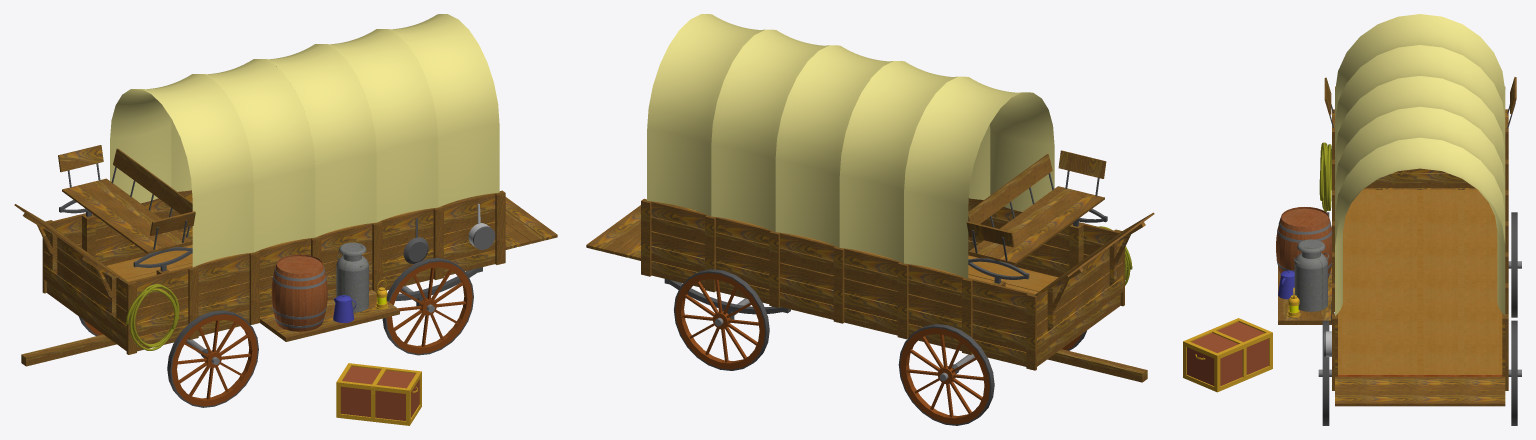
Rendered from wagon_10.obj.
3 renders of one model, left to right at view 1: azimuth 30°, elevation 25°; view 2: azimuth 150°, elevation 25°; view 3: azimuth 270°, elevation 25°, orthographic. The views are drawn at different scales.
Parts seen in each view (by area): view 1: Mesh20 Group22 Group8 Group1 Model, Mesh57 Component_4_2 Group8 Group1 Model, Mesh23 Group25 Group8 Group1 Model, Mesh31 Group32 Group8 Group1 Model, Mesh13 Group15 Group8 Group1 Model, Mesh26 Group27 Group8 Group1 Model, Mesh50 wheel4 Group8 Group1 Model, Mesh34 wheel1 Group8 Group1 Model, Mesh5 Group7 Group1 Model, Mesh49 Component_5_1 Group8 Group1 Model, Mesh9 Group11 Group8 Group1 Model, Mesh75 Group47 Group44 Model (+25 smaller); view 2: Mesh37 Component_4_1 Group8 Group1 Model, Mesh20 Group22 Group8 Group1 Model, Mesh23 Group25 Group8 Group1 Model, Mesh13 Group15 Group8 Group1 Model, Mesh31 Group32 Group8 Group1 Model, Mesh26 Group27 Group8 Group1 Model, Mesh9 Group11 Group8 Group1 Model, Mesh36 wheel3 Group8 Group1 Model, Mesh35 wheel2 Group8 Group1 Model, Mesh49 Component_5_1 Group8 Group1 Model, Mesh57 Component_4_2 Group8 Group1 Model, Mesh18 Group20 Group8 Group1 Model (+18 smaller); view 3: Mesh9 Group11 Group8 Group1 Model, Mesh26 Group27 Group8 Group1 Model, Mesh20 Group22 Group8 Group1 Model, Mesh23 Group25 Group8 Group1 Model, Mesh13 Group15 Group8 Group1 Model, Mesh31 Group32 Group8 Group1 Model, Mesh52 Component_5_2 Group8 Group1 Model, Mesh75 Group47 Group44 Model, Mesh5 Group7 Group1 Model, Mesh3 Group5 Group2 Group1 Model, Mesh76 Group48 Group44 Model, Mesh49 Component_5_1 Group8 Group1 Model (+6 smaller).
Boxes of the visible parts, box(x1,y1,x2,y2) form: Mesh20 Group22 Group8 Group1 Model: box(110, 74, 253, 267); Mesh57 Component_4_2 Group8 Group1 Model: box(128, 190, 503, 336); Mesh23 Group25 Group8 Group1 Model: box(171, 59, 315, 252); Mesh31 Group32 Group8 Group1 Model: box(325, 29, 438, 222); Mesh13 Group15 Group8 Group1 Model: box(264, 44, 376, 237); Mesh26 Group27 Group8 Group1 Model: box(387, 14, 499, 207); Mesh50 wheel4 Group8 Group1 Model: box(167, 310, 258, 407); Mesh34 wheel1 Group8 Group1 Model: box(382, 258, 473, 355); Mesh5 Group7 Group1 Model: box(271, 254, 327, 331); Mesh49 Component_5_1 Group8 Group1 Model: box(44, 229, 126, 339); Mesh9 Group11 Group8 Group1 Model: box(106, 209, 495, 351); Mesh75 Group47 Group44 Model: box(336, 374, 421, 425); Mesh37 Component_4_1 Group8 Group1 Model: box(643, 198, 1035, 351); Mesh20 Group22 Group8 Group1 Model: box(904, 76, 1054, 278); Mesh23 Group25 Group8 Group1 Model: box(839, 61, 990, 263); Mesh13 Group15 Group8 Group1 Model: box(775, 45, 893, 247); Mesh31 Group32 Group8 Group1 Model: box(711, 29, 829, 231); Mesh26 Group27 Group8 Group1 Model: box(647, 14, 764, 216); Mesh9 Group11 Group8 Group1 Model: box(651, 218, 1058, 366); Mesh36 wheel3 Group8 Group1 Model: box(898, 324, 994, 425); Mesh35 wheel2 Group8 Group1 Model: box(674, 269, 769, 370); Mesh49 Component_5_1 Group8 Group1 Model: box(1037, 239, 1123, 354); Mesh57 Component_4_2 Group8 Group1 Model: box(968, 198, 1120, 277); Mesh18 Group20 Group8 Group1 Model: box(1034, 212, 1154, 331); Mesh9 Group11 Group8 Group1 Model: box(1338, 189, 1502, 374); Mesh26 Group27 Group8 Group1 Model: box(1335, 137, 1505, 315); Mesh20 Group22 Group8 Group1 Model: box(1335, 14, 1505, 121); Mesh23 Group25 Group8 Group1 Model: box(1335, 45, 1505, 152); Mesh13 Group15 Group8 Group1 Model: box(1335, 76, 1505, 182); Mesh31 Group32 Group8 Group1 Model: box(1335, 106, 1505, 213); Mesh52 Component_5_2 Group8 Group1 Model: box(1335, 376, 1505, 406); Mesh75 Group47 Group44 Model: box(1183, 334, 1272, 392); Mesh5 Group7 Group1 Model: box(1276, 207, 1331, 278); Mesh3 Group5 Group2 Group1 Model: box(1294, 239, 1327, 311); Mesh76 Group48 Group44 Model: box(1183, 318, 1272, 357); Mesh49 Component_5_1 Group8 Group1 Model: box(1365, 168, 1474, 187).
Size of the model in its own units: 275 by 151 by 159.
